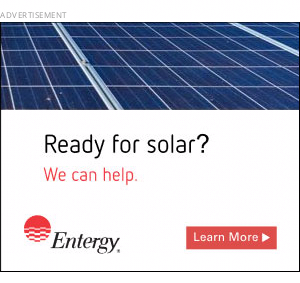fake_button: (180, 218, 284, 264)
